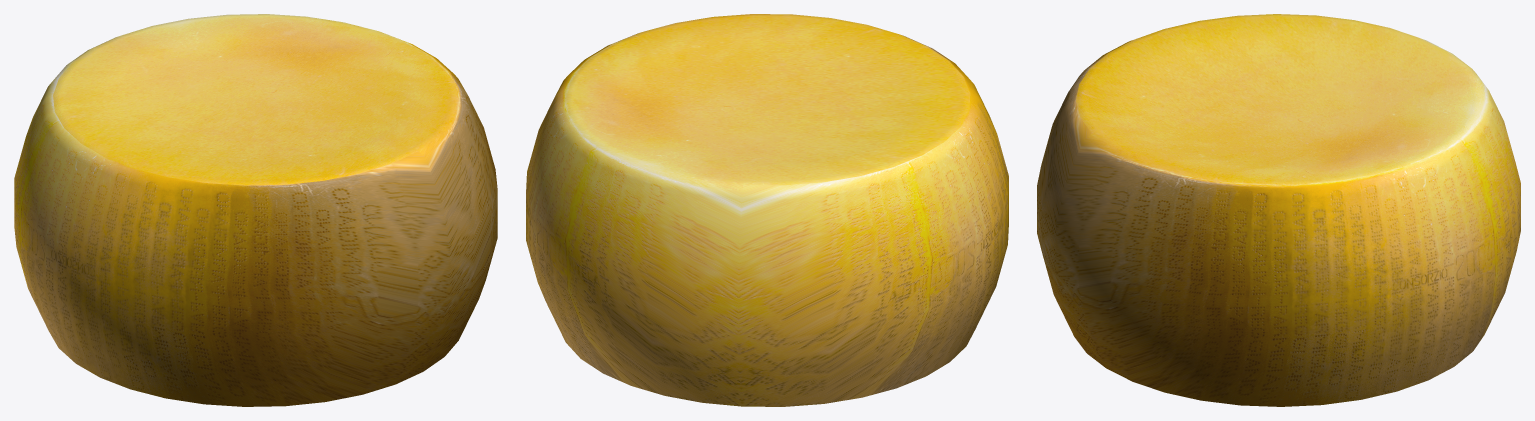
File: FestivalCheese.fbx
3 views of the same model, side by side, from view 1: azimuth 30°, elevation 25°; view 2: azimuth 150°, elevation 25°; view 3: azimuth 270°, elevation 25° (orthographic).
Parts seen in each view (by area): view 1: small_cheese2; view 2: small_cheese2; view 3: small_cheese2.
Part boxes in pixels (<box>): small_cheese2: <box>14,14,497,406</box>; small_cheese2: <box>526,14,1008,406</box>; small_cheese2: <box>1037,14,1520,406</box>.
Bounding box in the file's own units: 137 × 68.68 × 137.
